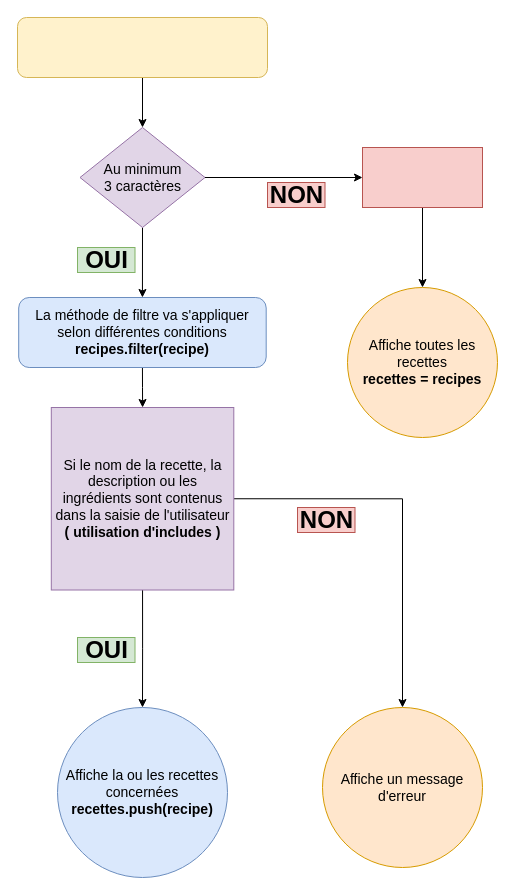
This 515x895 diagram has some shape labels left out. Here are the shapes that lost their labels. From the top down, the centre of each, then its label:
At point 142,47: "Saisie de l'utilisateur dans la barre de recherche".
At point 422,177: "Moins de 3 caractères".
